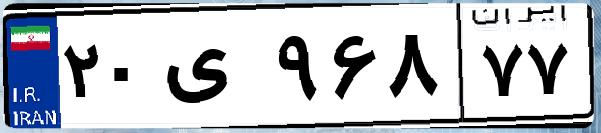0: (110, 28, 158, 98)
2: (57, 26, 110, 100)
6: (330, 28, 385, 110)
7: (475, 38, 525, 113), (525, 38, 570, 115)
8: (385, 28, 445, 110)
9: (270, 28, 330, 110)
ی: (158, 20, 270, 120)
